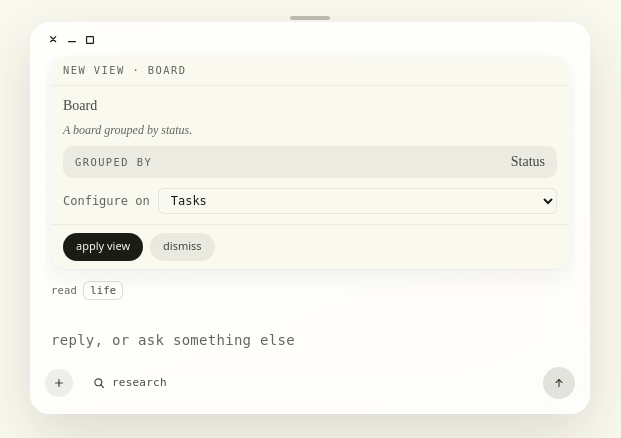
Scenario: AITerminal — configure_view proposal card › Reject settles the card inert without writing
Check: the text box named "Message Pond" is enabled, box [45,328,575,353]
Click the button "Dismiss" at (182, 247), box [150,233,215,261]
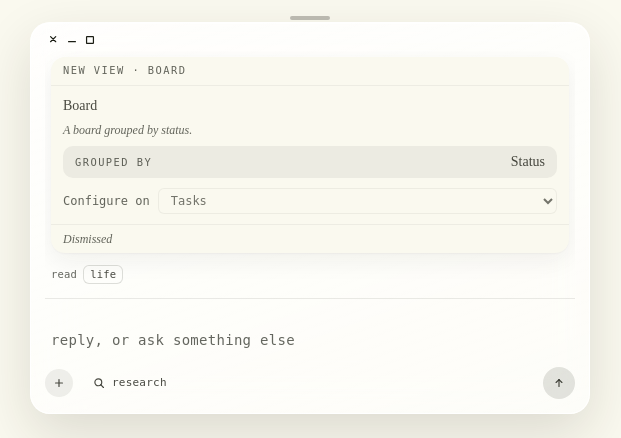
Check: the text "Dismissed" is shown, box [51,224,569,253]
